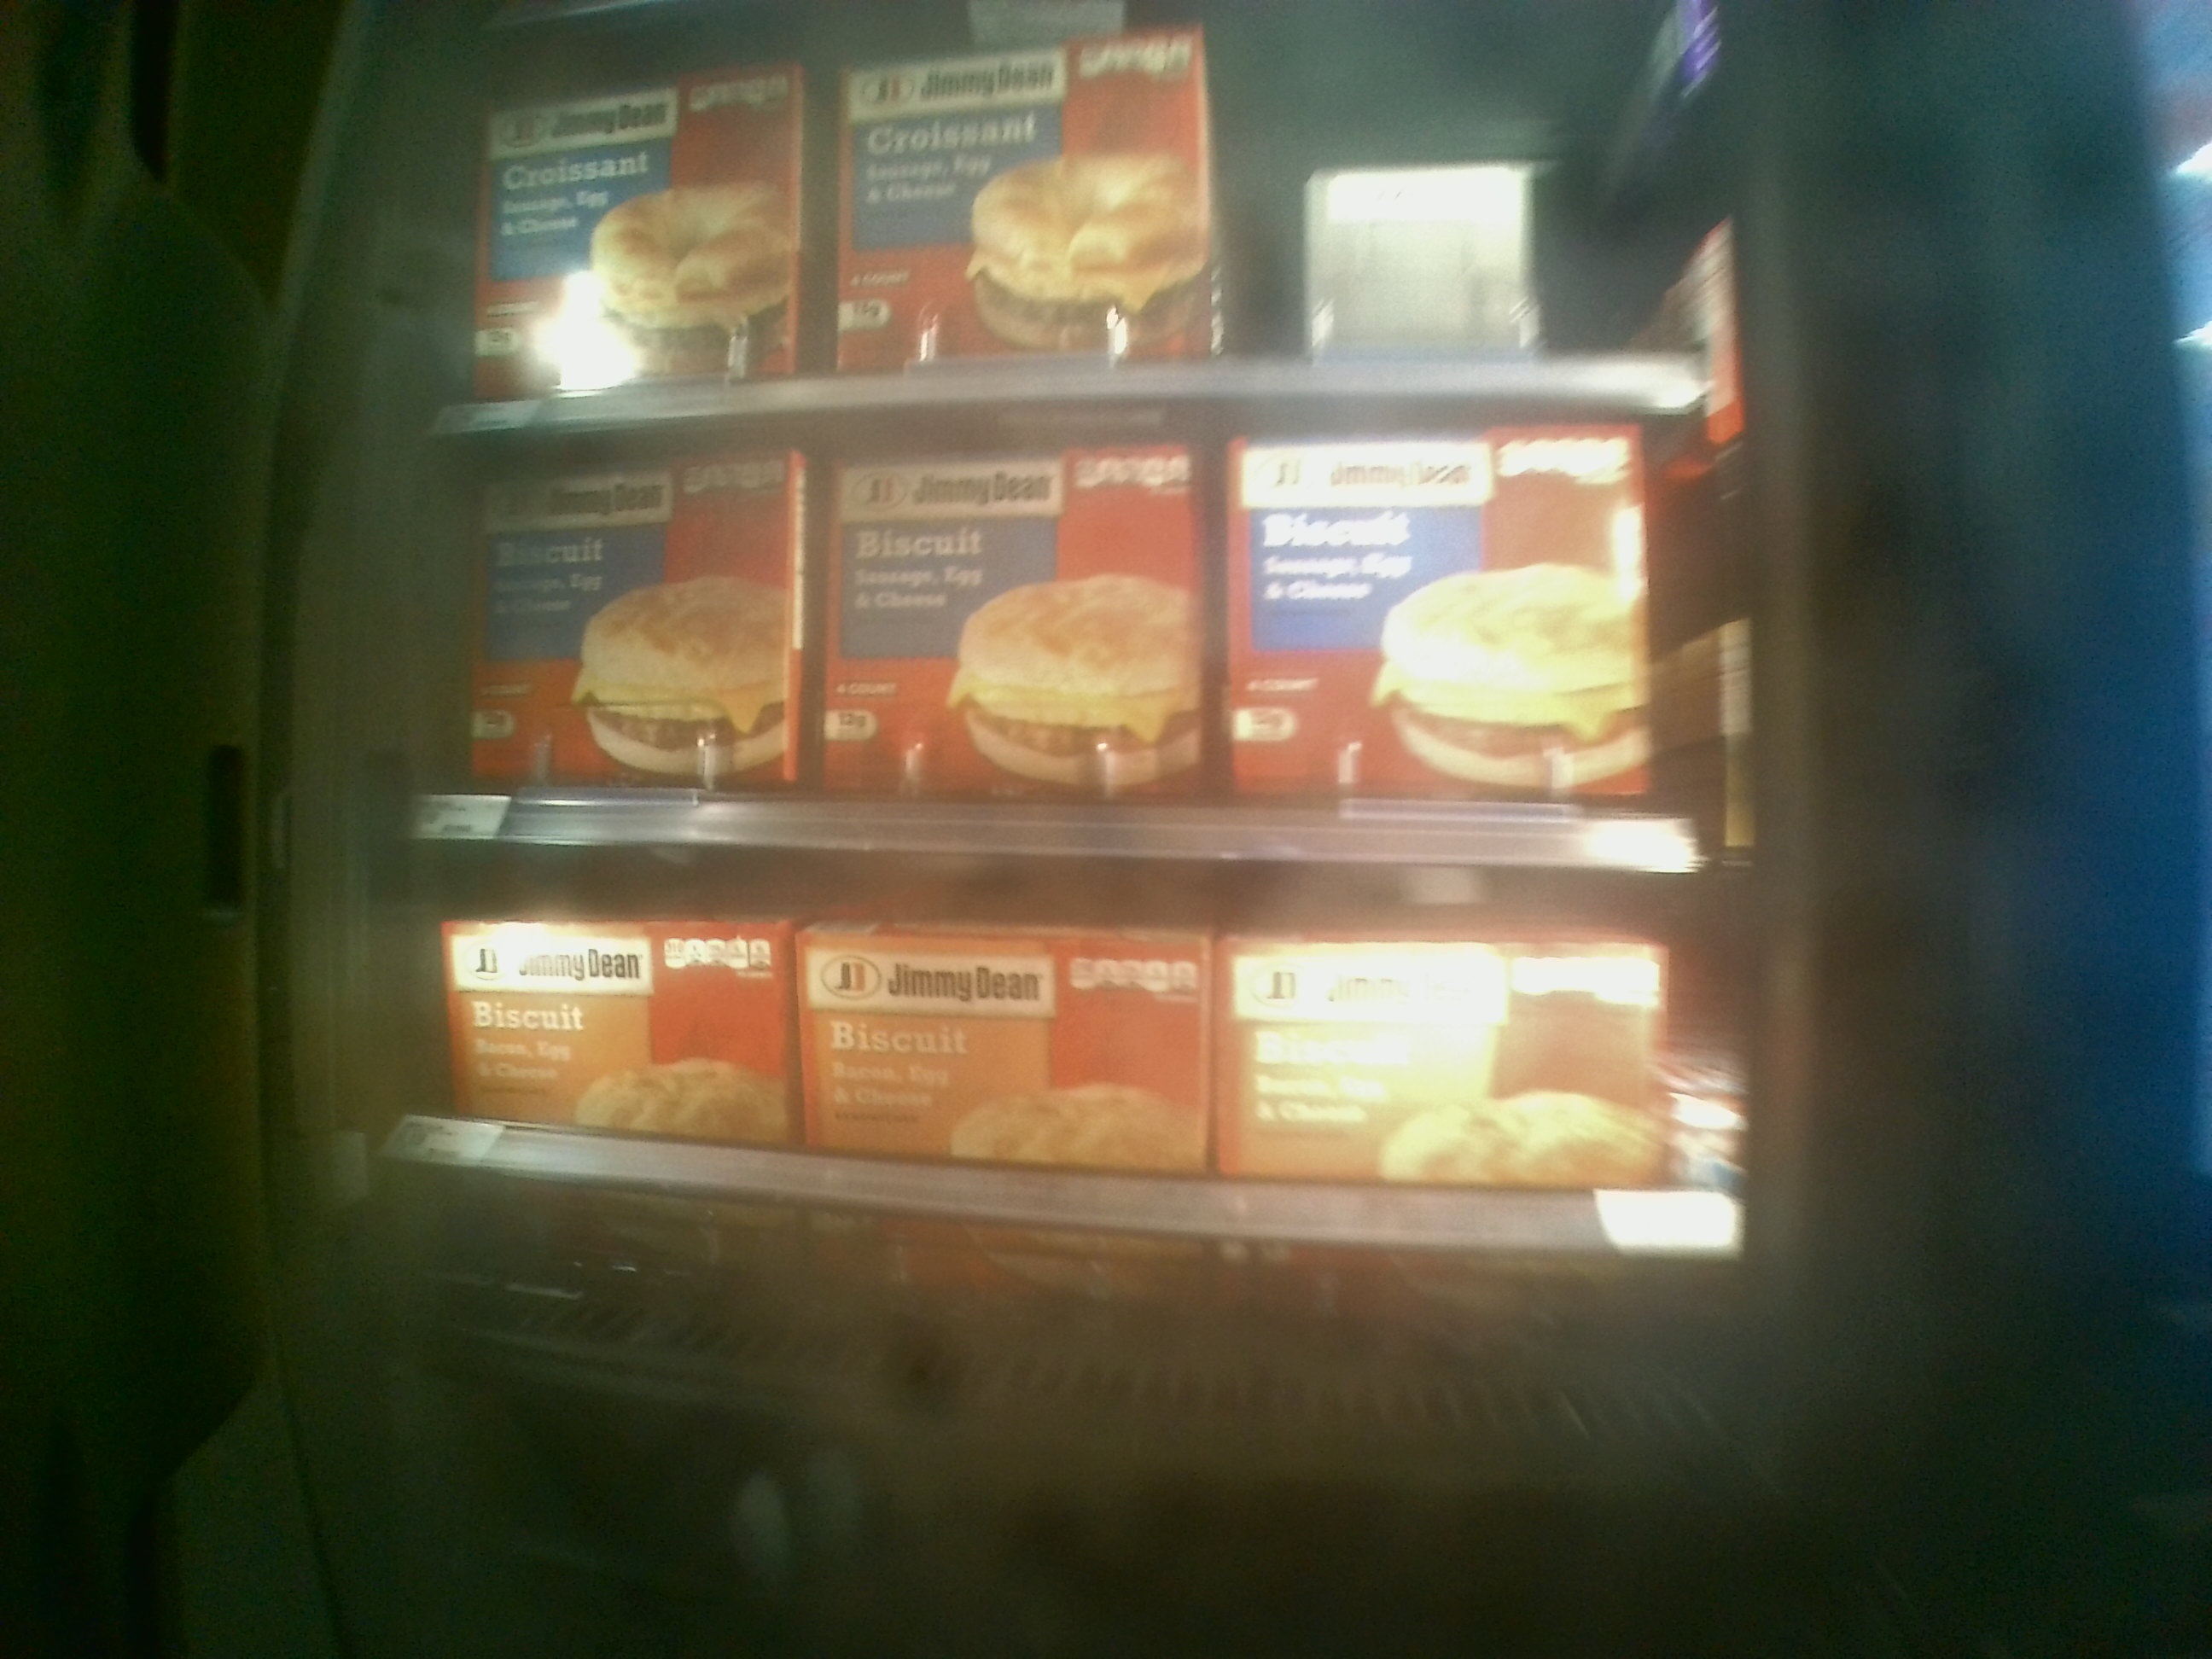shelf: (401, 836, 1757, 1391), (439, 437, 1747, 871)
